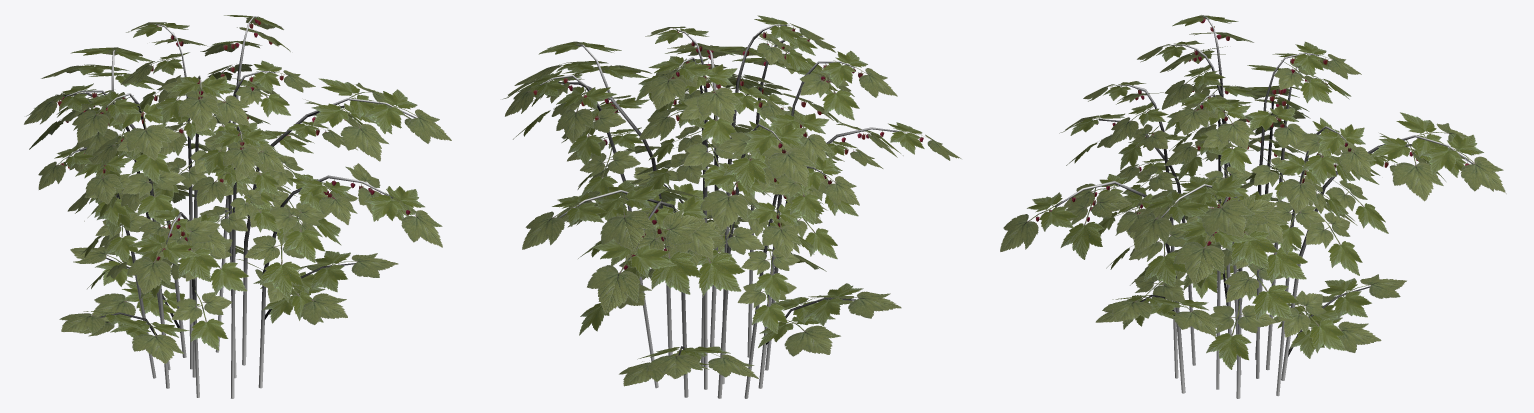
File: PW_Plants_Berry_Bushes_02.fbx
The picture shows the model from 3 angles, left to right: view 1: azimuth 30°, elevation 25°; view 2: azimuth 150°, elevation 25°; view 3: azimuth 270°, elevation 25°; orthographic projection. The views are drawn at different scales.
Visible parts, largest first — view 1: PW_Plants_Berry_Bushes_02_LOD0; view 2: PW_Plants_Berry_Bushes_02_LOD0; view 3: PW_Plants_Berry_Bushes_02_LOD0.
Boxes of the visible parts, left/top/right/bottom form: PW_Plants_Berry_Bushes_02_LOD0: left=24, top=15, right=451, bottom=398; PW_Plants_Berry_Bushes_02_LOD0: left=502, top=15, right=961, bottom=398; PW_Plants_Berry_Bushes_02_LOD0: left=1000, top=15, right=1506, bottom=398.
Size of what is drawn, in the model's own units: 201 by 162 by 237.
Materials: 2 (1 with a texture image).
